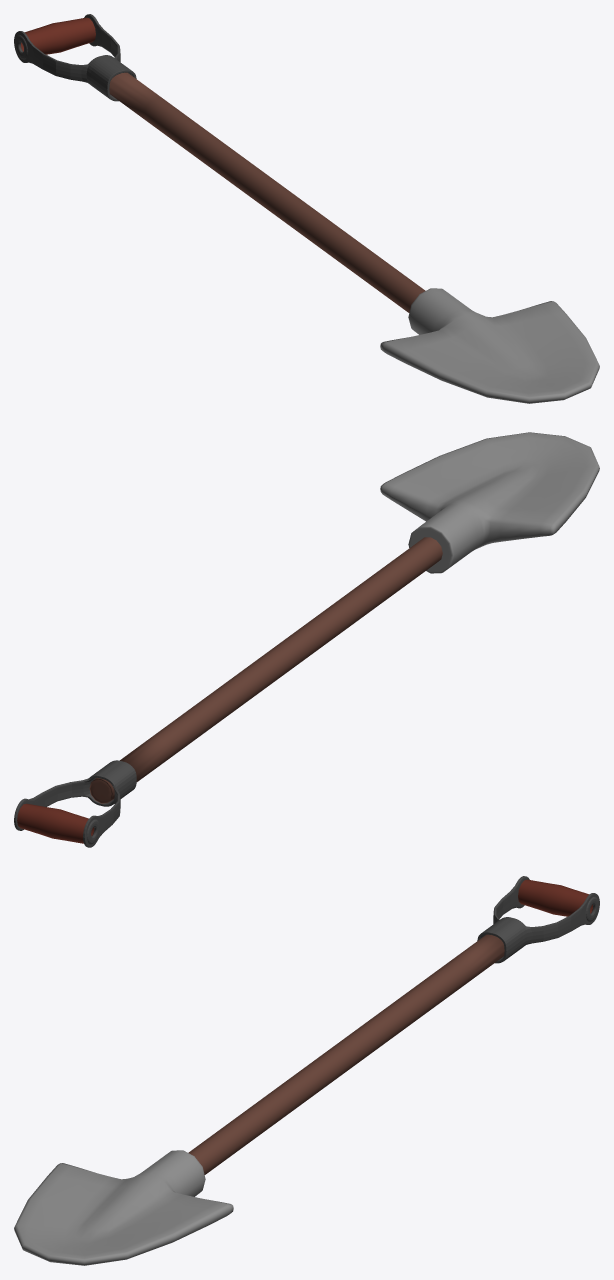
File: shovel.fbx
3 views of the same model, one above another, from view 1: azimuth 30°, elevation 25°; view 2: azimuth 150°, elevation 25°; view 3: azimuth 330°, elevation 25° (orthographic).
Visible parts, largest first — view 1: Circle, Circle.001, Circle.002, Circle.003; view 2: Circle, Circle.001, Circle.002, Circle.003; view 3: Circle, Circle.001, Circle.002, Circle.003.
Part boxes in pixels (x1,y1,x2,y2): Circle: (380,288,599,403); Circle.001: (109,72,425,312); Circle.002: (14,14,136,101); Circle.003: (21,17,95,54); Circle: (380,432,599,573); Circle.001: (89,537,442,803); Circle.002: (14,760,136,847); Circle.003: (17,803,94,843); Circle: (14,1150,233,1265); Circle.001: (188,934,504,1174); Circle.002: (477,876,599,963); Circle.003: (518,879,592,916).
Size of the model in its own units: 167 by 44.03 by 862.
